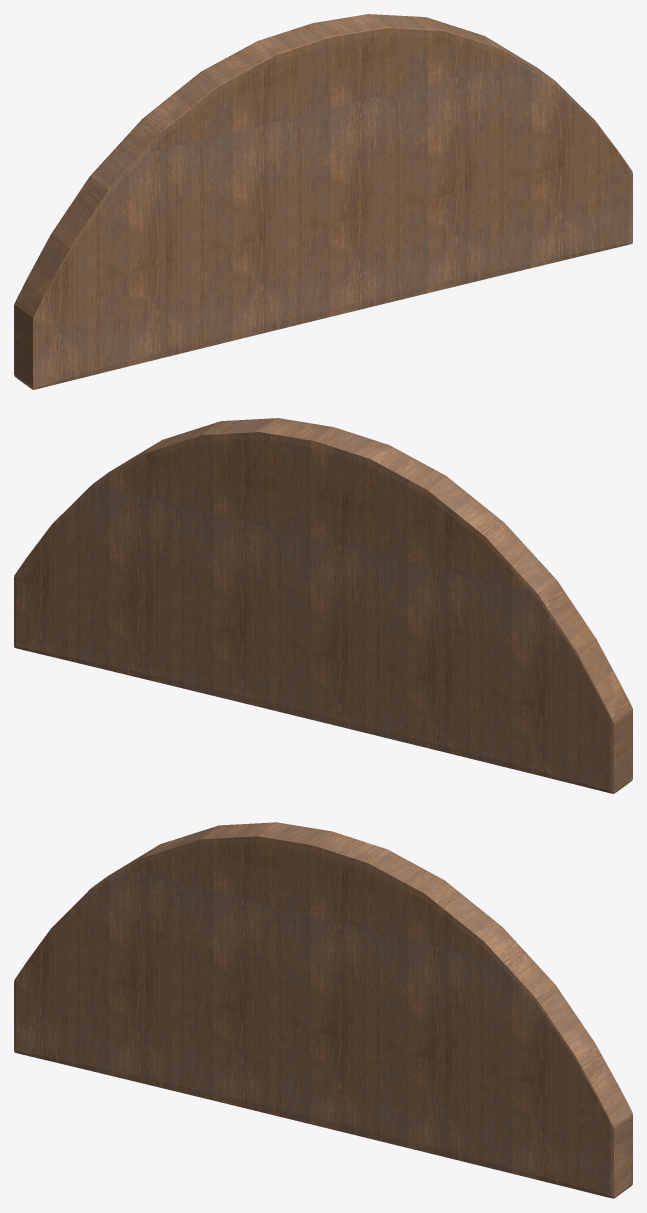
Rendered from RoofEnd01.fbx.
3 renders of one model, top to bottom at view 1: azimuth 30°, elevation 25°; view 2: azimuth 150°, elevation 25°; view 3: azimuth 330°, elevation 25°, orthographic.
Parts seen in each view (by area): view 1: RoofEnd01; view 2: RoofEnd01; view 3: RoofEnd01.
Boxes of the visible parts, left/top/right/bottom form: RoofEnd01: left=14, top=14, right=632, bottom=389; RoofEnd01: left=14, top=418, right=632, bottom=793; RoofEnd01: left=14, top=822, right=632, bottom=1198.
Bounding box in the file's own units: 880 × 393 × 50.
